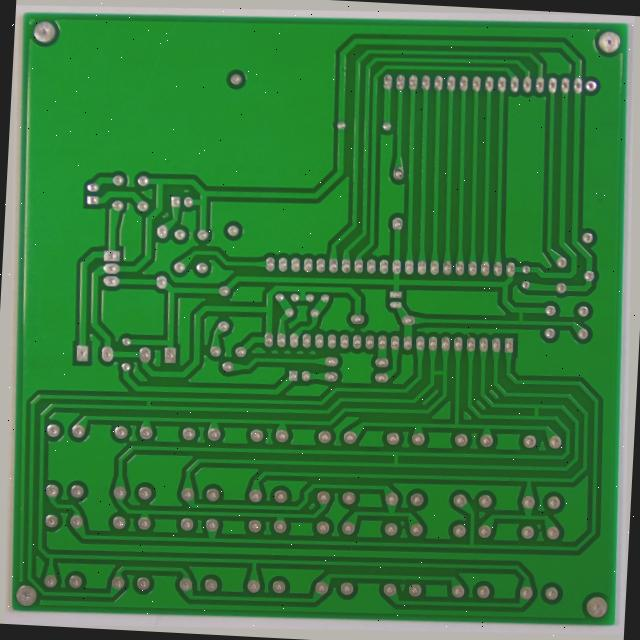short: (517, 310, 537, 335), (428, 372, 452, 387), (532, 411, 547, 434), (387, 456, 402, 479), (133, 390, 147, 410)
